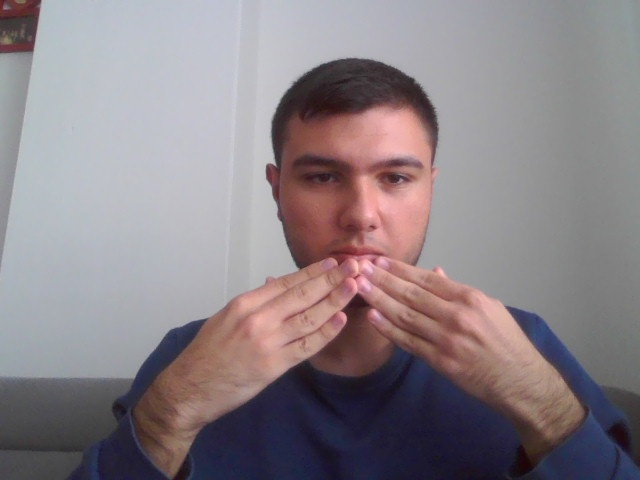thanks: (142, 255, 589, 432)
